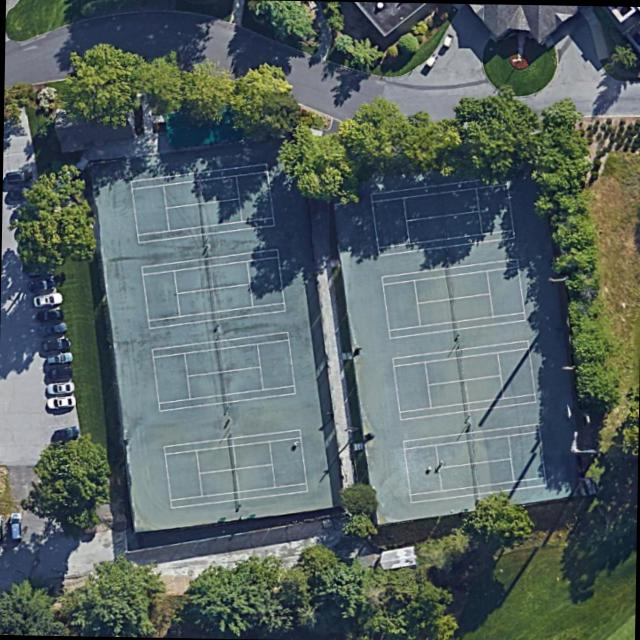large-vehicle: (10, 510, 23, 539)
small-vehicle: (39, 334, 72, 351), (27, 275, 58, 292), (32, 290, 64, 306), (46, 393, 77, 409), (38, 320, 68, 336), (4, 167, 33, 183), (47, 378, 75, 394), (36, 306, 65, 321), (47, 349, 75, 364), (53, 424, 79, 440), (8, 183, 36, 197), (48, 365, 72, 379), (28, 261, 55, 273)
